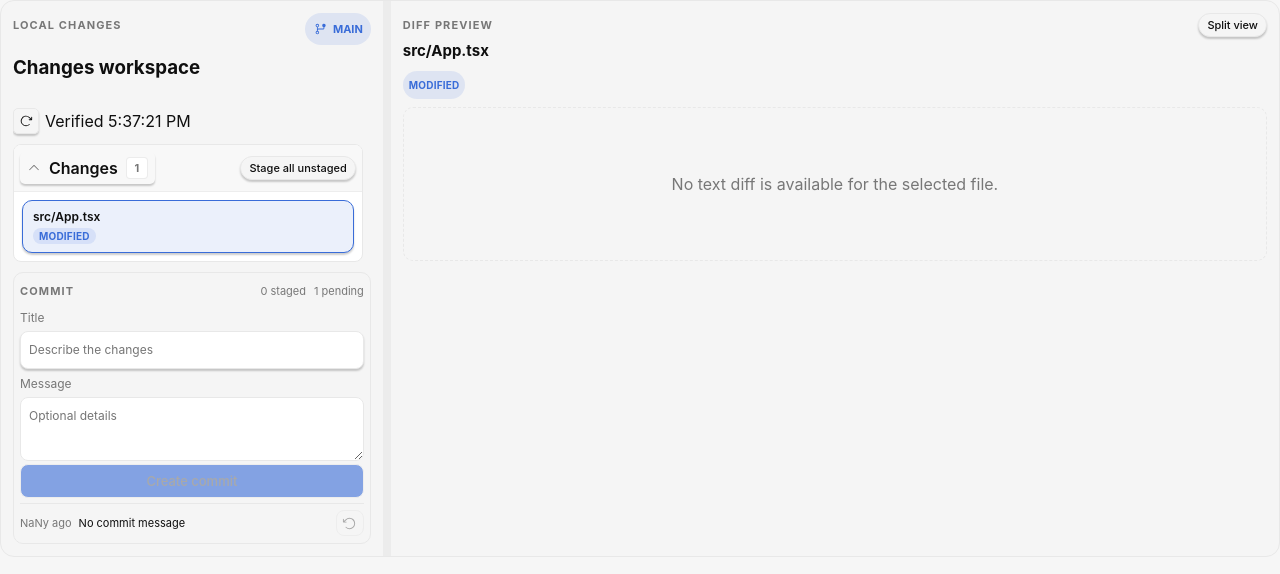
RepositoryDetailBody › collapses and expands a changes group without affecting its stage action
This screenshot has width=1280, height=574.
Expected: the text "src/App.tsx" is shown, [33,209,100,224]
Expected: the button "Stage all unstaged" is shown, [240,156,356,180]
Click the button "Changes 1": x=87, y=168 [20,152,155,184]
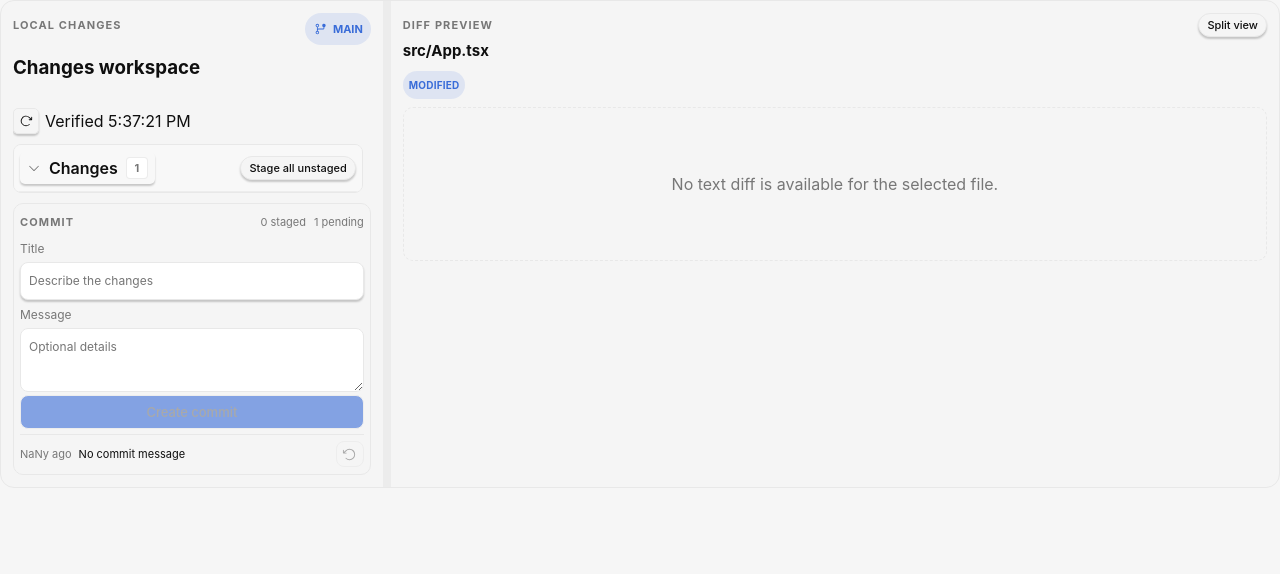
Expected: the button "Stage all unstaged" is shown, [240,156,356,180]
Result: the button "Changes 1" is collapsed
Click the button "Changes 1": x=87, y=168 [20,152,155,184]
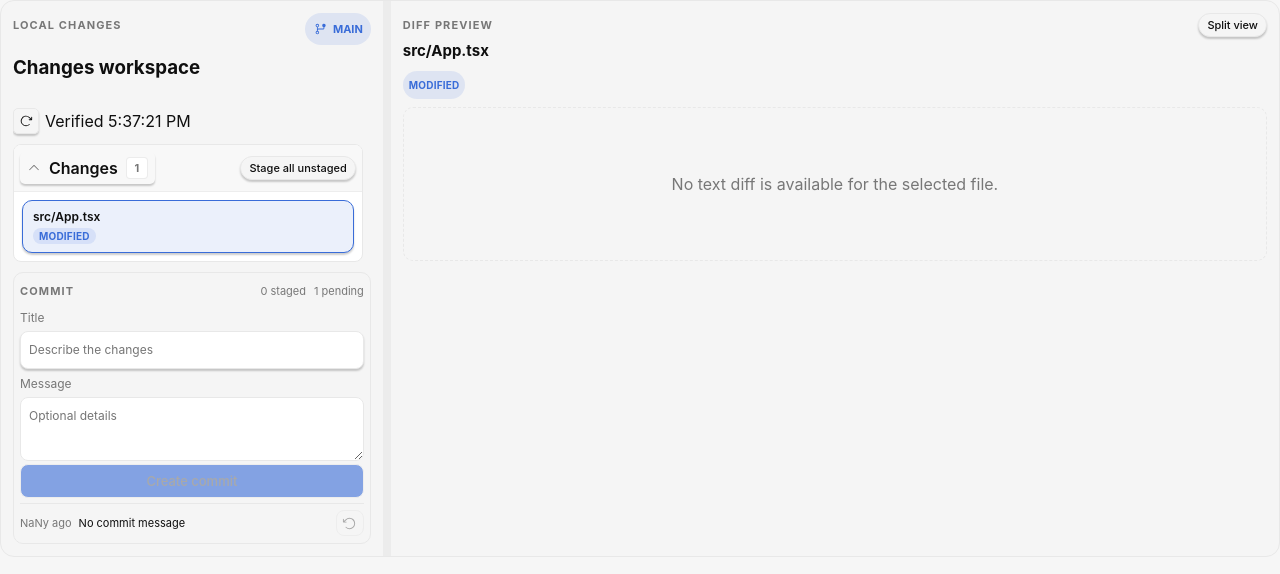
Result: the button "Changes 1" is expanded at [20,152,155,184]
Result: the text "src/App.tsx" is shown at [33,209,100,224]
